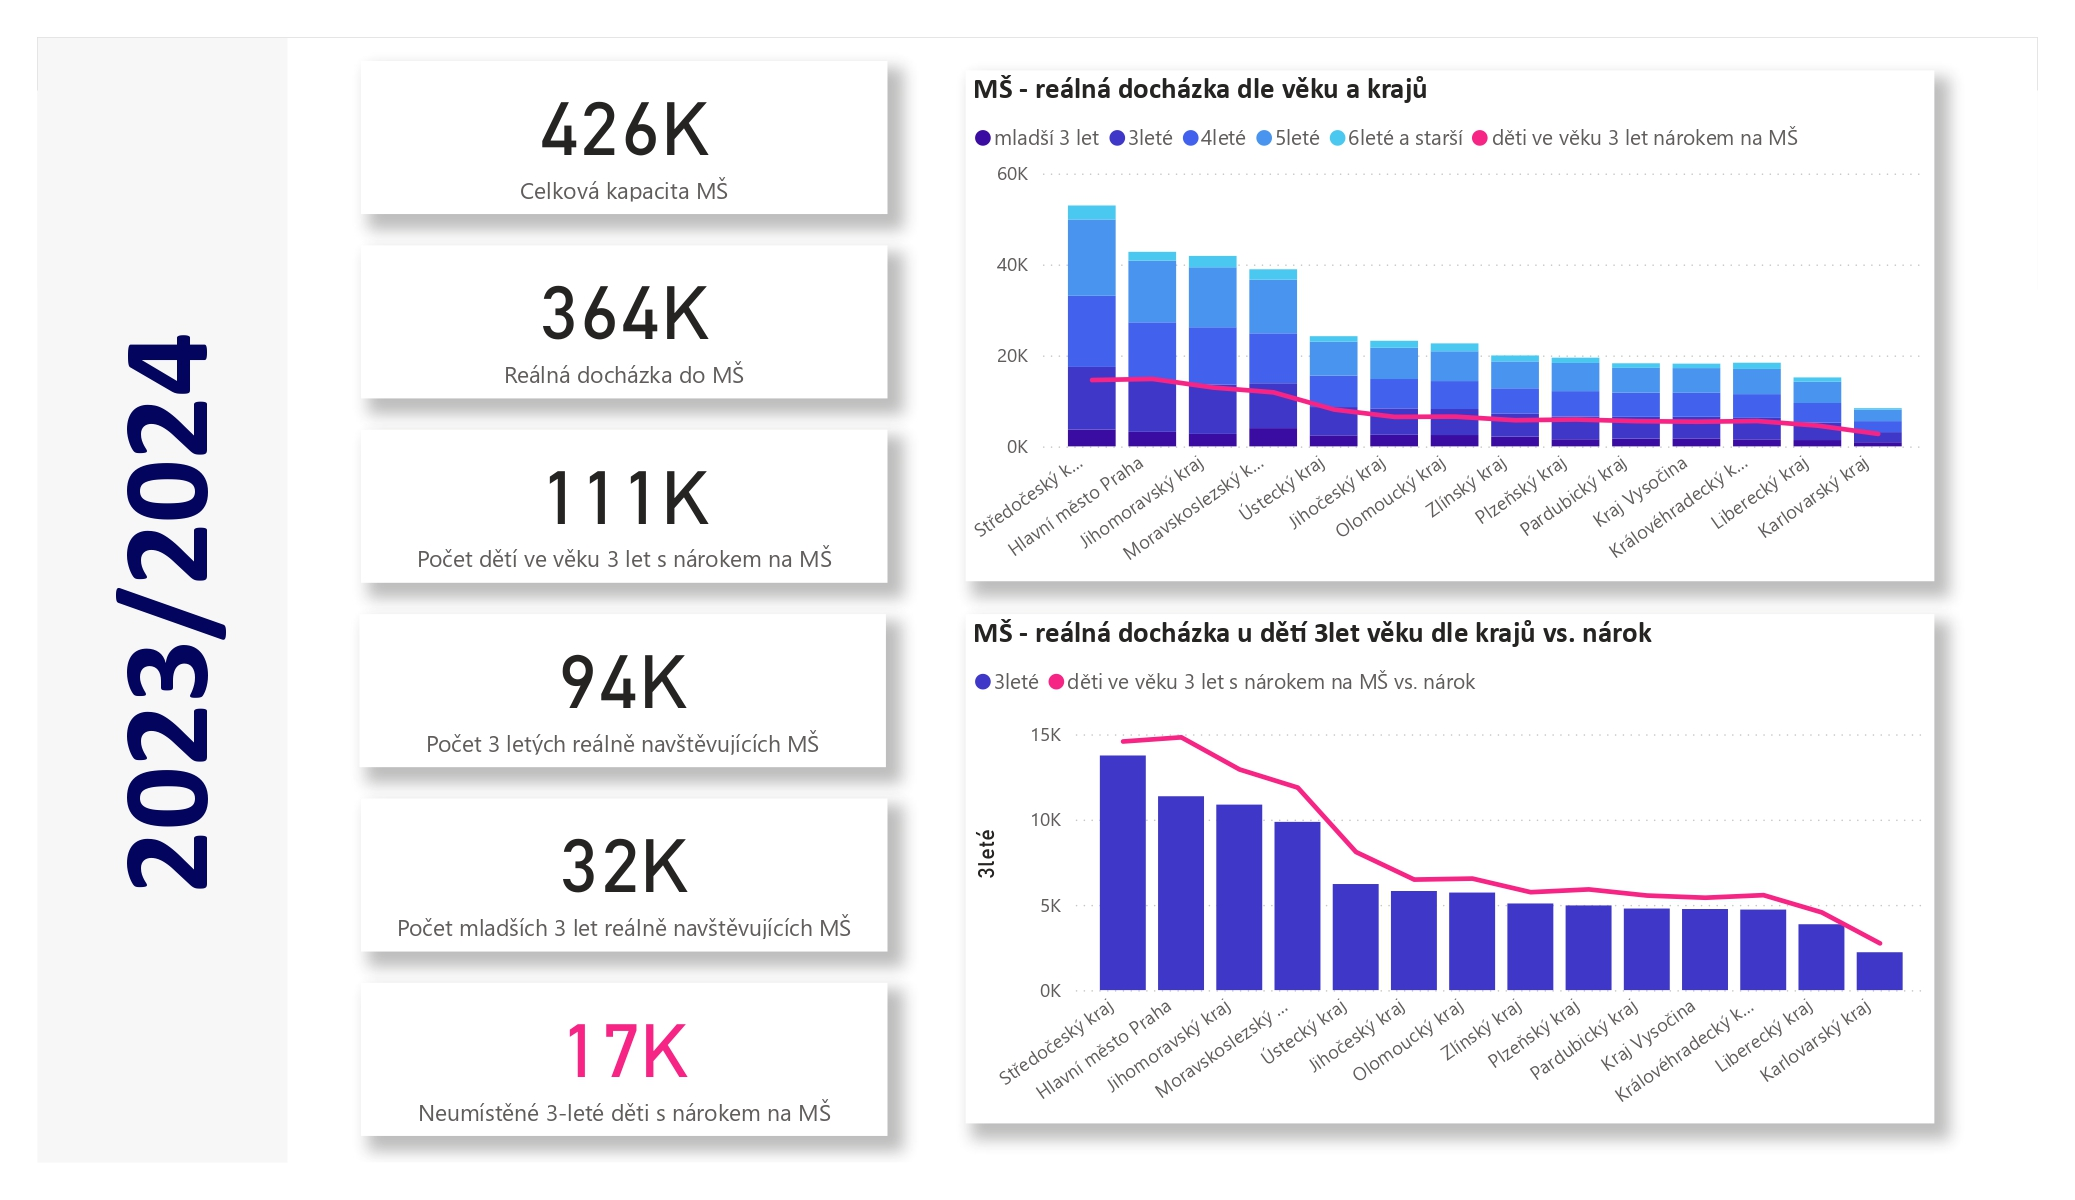

What the dashboard file says about the page in this screenshot:
{"tool":"powerbi","page":{"name":"Realna_dochazka","canvas":[1280,720],"ordinal":0},"visuals":[{"type":"lineStackedColumnComboChart","title":"MŠ - reálná docházka dle věku a krajů ","fields":{"Category":["Porodnost - dle šk roků.Kraj"],"Y":["Sum(MŠ - oficiální docházka.mladší 3 let)","Sum(MŠ - oficiální docházka.3leté)","Sum(MŠ - oficiální docházka.4leté)","Sum(MŠ - oficiální docházka.5leté)","Sum(MŠ - oficiální docházka.6leté a starší)"],"Y2":["Sum(Porodnost - dle šk roků.porodnost do 2020/2021)"]},"box":[593.8,21.2,620,326.2],"z":0},{"type":"lineStackedColumnComboChart","title":"MŠ - reálná docházka u dětí 3let věku dle krajů  vs. nárok","fields":{"Category":["Porodnost - dle šk roků.Kraj"],"Y":["Sum(MŠ - oficiální docházka.3leté)"],"Y2":["Sum(Porodnost - dle šk roků.porodnost do 2020/2021)"]},"box":[593.8,368.8,620,326.2],"z":1000},{"type":"card","fields":{"Values":["Sum(MŠ - oficiální docházka.Celkem)"]},"box":[206.6,132.5,337,98],"z":2000},{"type":"card","fields":{"Values":["Sum(Porodnost - dle šk roků.porodnost do 2020/2021)"]},"box":[206.6,250.5,337,98],"z":3000},{"type":"card","fields":{"Values":["Sum(MŠ - oficiální docházka.3leté)"]},"box":[206.1,368.5,337,98],"z":4000},{"type":"card","fields":{"Values":["Sum(MŠ - oficiální docházka.mladší 3 let)"]},"box":[206.6,486.5,337.5,98],"z":5000},{"type":"card","fields":{"Values":["MŠ - oficiální docházka.Rozdíl_MŠ_Porodnost_Filter"]},"box":[206.6,604.5,337.5,98],"z":6000},{"type":"card","fields":{"Values":["Sum(Předškolní vzdělávání, péče - kapacity.Kapacita)"]},"box":[206.6,15.2,337,98],"z":7000},{"type":"shape","box":[0,0,160,720],"z":7500},{"type":"shape","box":[12.5,121.2,135,493.8],"z":8000}]}

Visuals, with their boxes in screenshot pixels (x1, y1, x2, y2):
"MŠ - reálná docházka dle věku a krajů " lineStackedColumnComboChart: l=965, t=71, r=1934, b=580
"MŠ - reálná docházka u dětí 3let věku dle krajů  vs. nárok" lineStackedColumnComboChart: l=965, t=614, r=1934, b=1123
card - Sum(MŠ - oficiální docházka.Celkem): l=360, t=245, r=887, b=398
card - Sum(Porodnost - dle šk roků.porodnost do 2020/2021): l=360, t=429, r=887, b=582
card - Sum(MŠ - oficiální docházka.3leté): l=360, t=613, r=886, b=766
card - Sum(MŠ - oficiální docházka.mladší 3 let): l=360, t=798, r=888, b=951
card - MŠ - oficiální docházka.Rozdíl_MŠ_Porodnost_Filter: l=360, t=982, r=888, b=1135
card - Sum(Předškolní vzdělávání, péče - kapacity.Kapacita): l=360, t=61, r=887, b=214
shape: l=38, t=38, r=288, b=1162
shape: l=57, t=227, r=268, b=998
